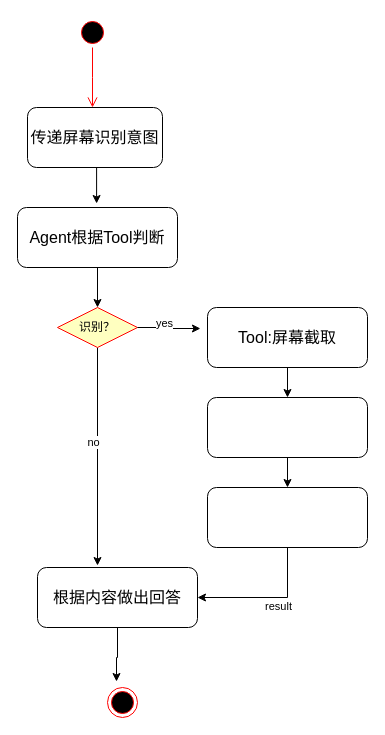
Some shapes in this 385 by 735 pixel diagram are drawn without their labels. The shapes that lost their labels are listed below. From the top down, each one's box as (x1, y1, x2, y2) in pixels, then its label:
(206, 396, 368, 458): 截屏工具
(206, 486, 368, 548): Agent屏幕内容分析
